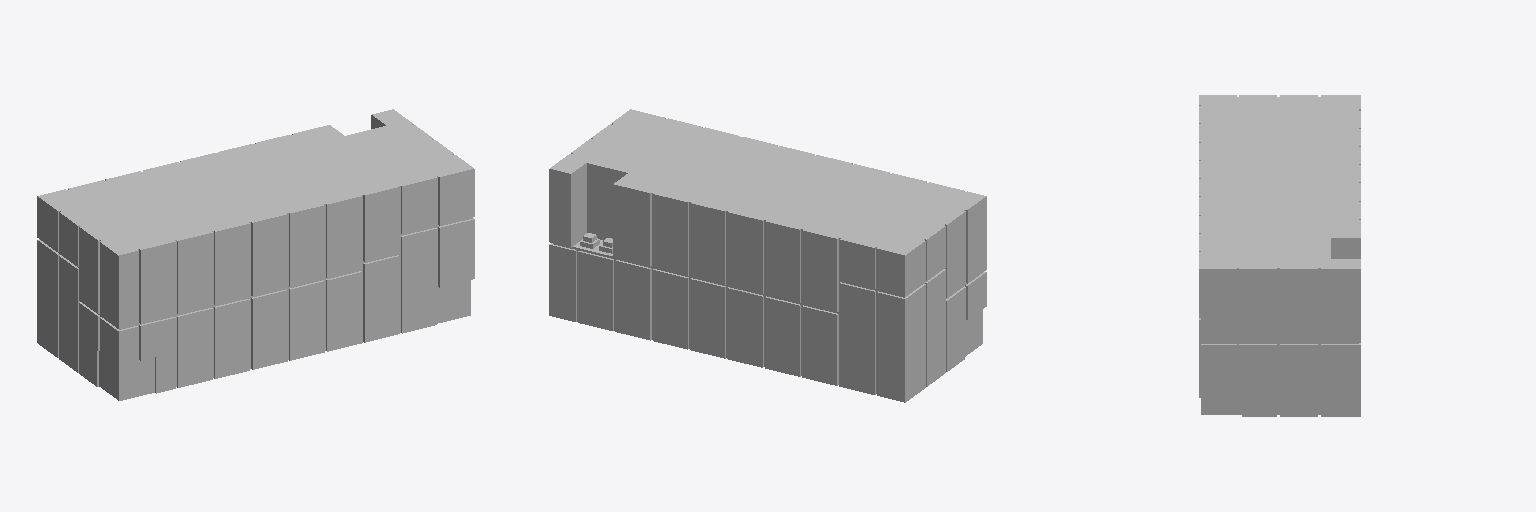
Rendered from euvplm.obj.
3 views of the same model, side by side, from view 1: azimuth 30°, elevation 25°; view 2: azimuth 150°, elevation 25°; view 3: azimuth 270°, elevation 25° (orthographic).
Parts seen in each view (by area): view 1: cube; view 2: cube; view 3: cube.
Part boxes in pixels (x1,y1,x2,y2): cube: (37,109,474,400); cube: (549,109,986,402); cube: (1199,95,1360,416).
Size of the model in its own units: 10.12 by 4 by 4.